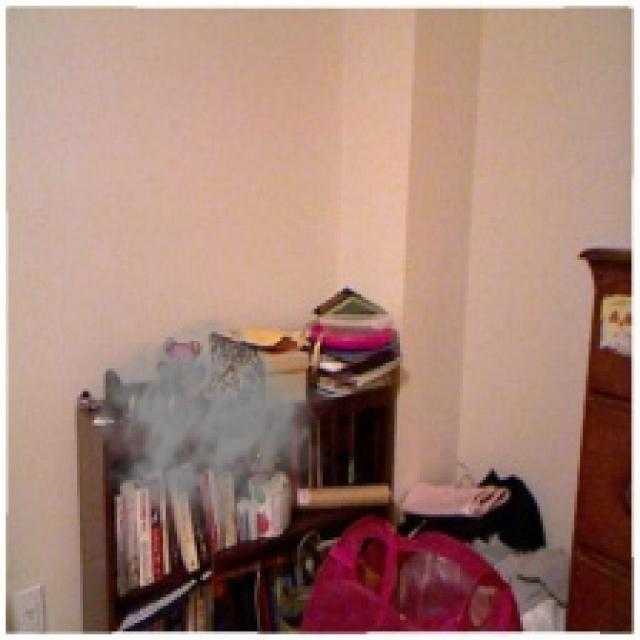Smoke: (86, 317, 337, 554)
